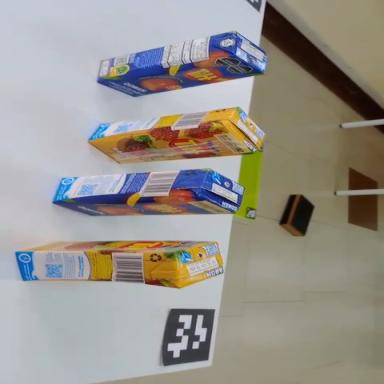HIT-MANGO: (93, 26, 269, 104), (51, 169, 244, 217)
HIT-MORA: (87, 105, 265, 167), (15, 238, 224, 289)
cara_F: (97, 50, 264, 104), (88, 123, 252, 166), (53, 195, 236, 217), (18, 241, 216, 252)
